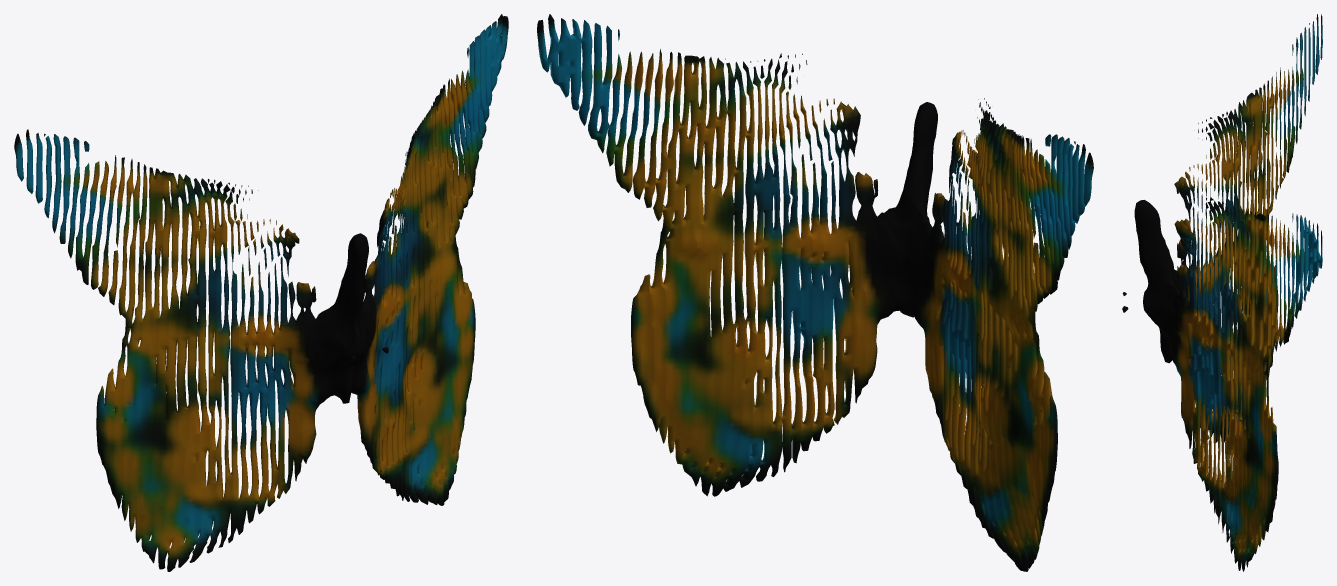
3 renders of one model, left to right at view 1: azimuth 30°, elevation 25°; view 2: azimuth 150°, elevation 25°; view 3: azimuth 270°, elevation 25°, orthographic. The views are drawn at different scales.
Visible parts, largest first — view 1: plyFile; view 2: plyFile; view 3: plyFile.
Part boxes in pixels (x1=…): plyFile: x1=14, y1=14, x2=508, y2=571; plyFile: x1=537, y1=14, x2=1093, y2=571; plyFile: x1=1122, y1=14, x2=1322, y2=571.
Size of the model in its own units: 194 by 163 by 75.59.
